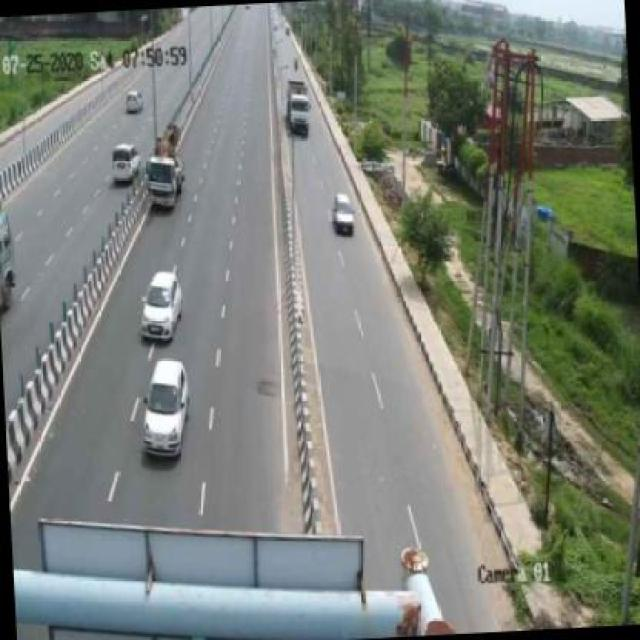car: (136, 356, 196, 462), (137, 269, 185, 342), (106, 137, 145, 189), (326, 186, 362, 240), (122, 83, 146, 117)
